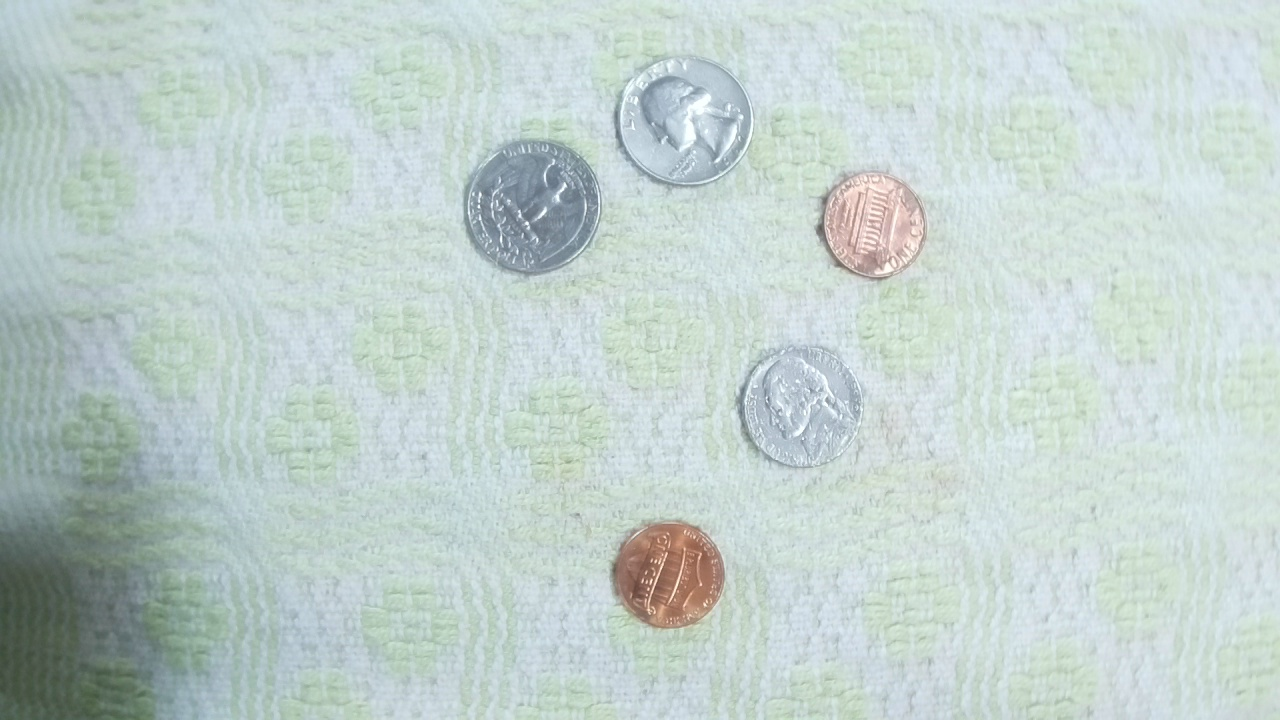nickel: (732, 346, 860, 474)
penny: (604, 516, 732, 630), (814, 166, 930, 280)
quarter: (452, 138, 608, 278), (610, 56, 756, 184)
